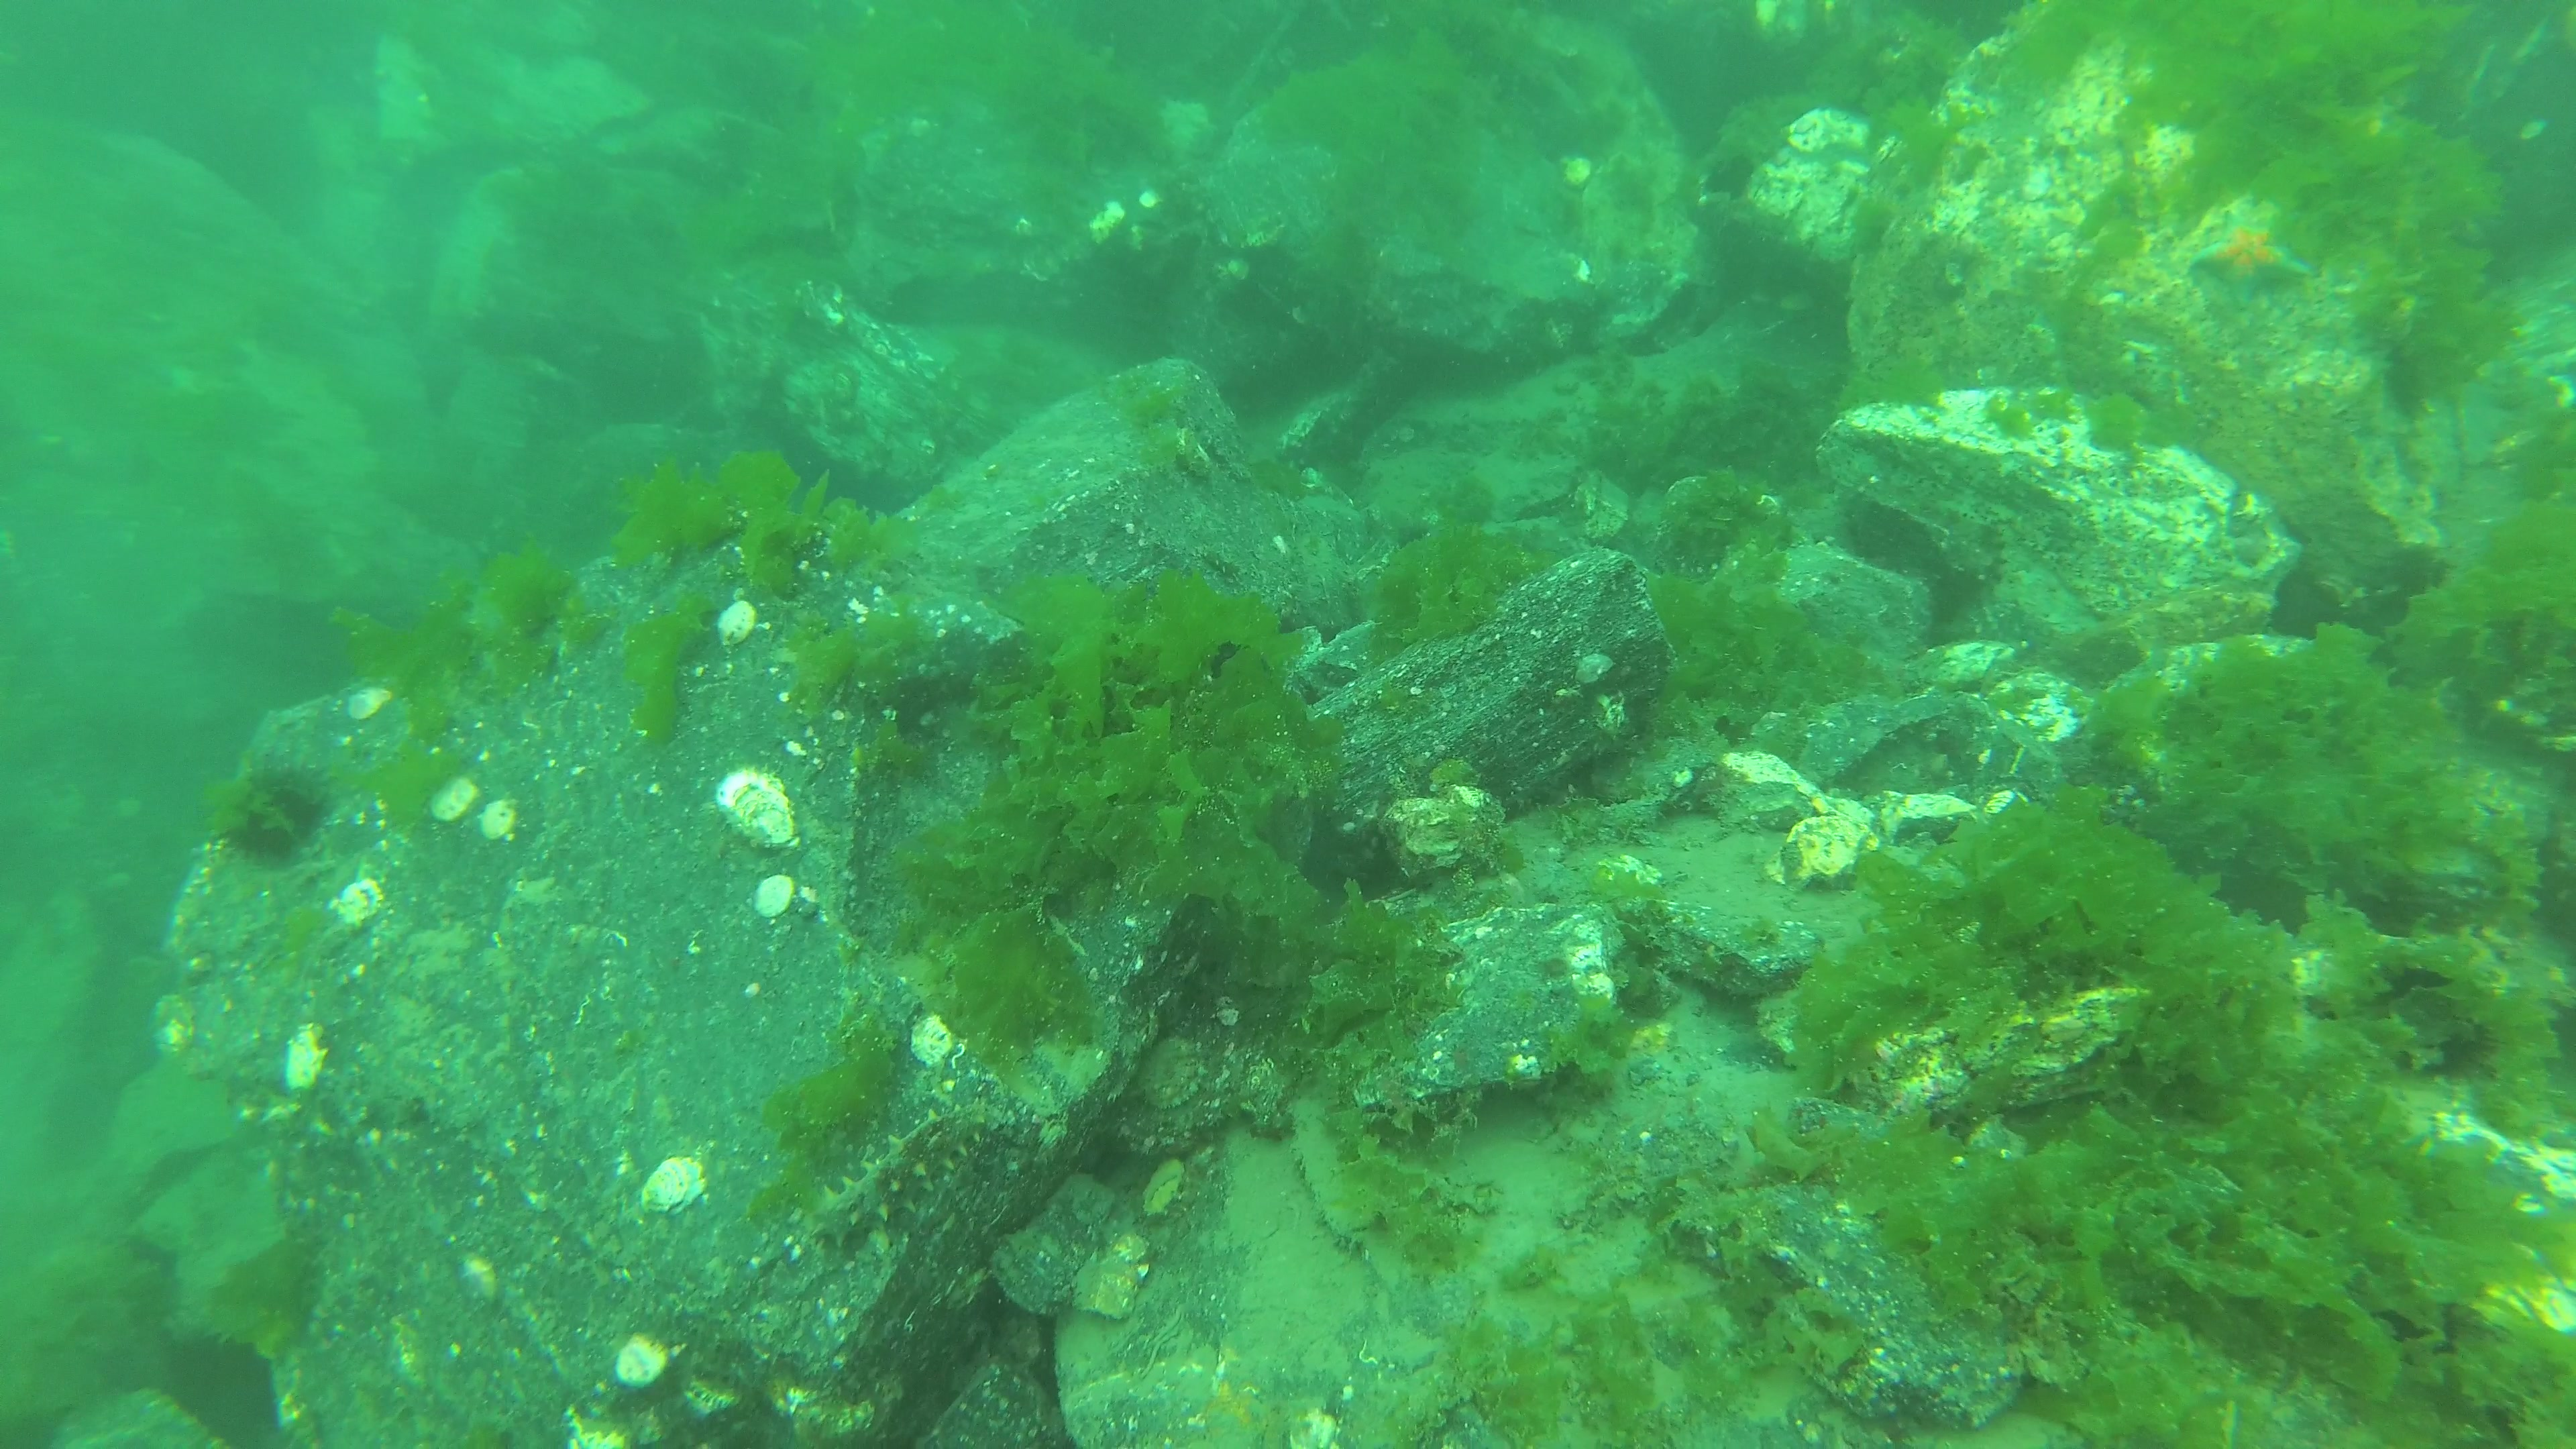echinus: (216, 764, 333, 869)
holothurian: (812, 1102, 996, 1246)
starfish: (2187, 203, 2311, 313)
